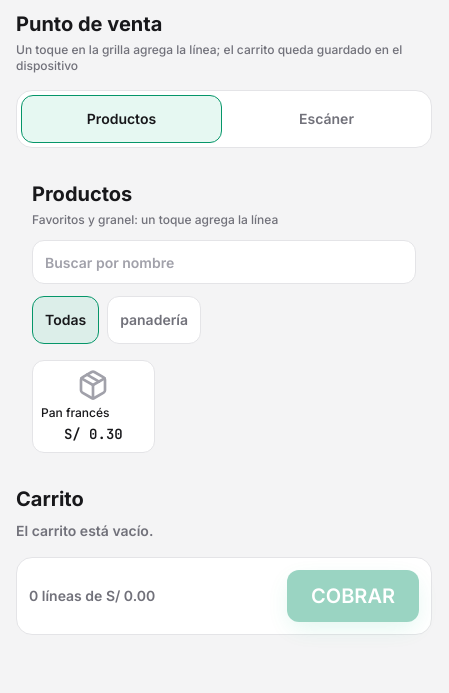
Test case: CounterSaleScreen › falls back to the grid with a non-modal notice when the camera permission is denied
Expected: the number of buttons with test id "product-tile" is 1, [32, 360, 155, 453]
Click the button "Escáner": [326, 119] box [226, 95, 427, 143]
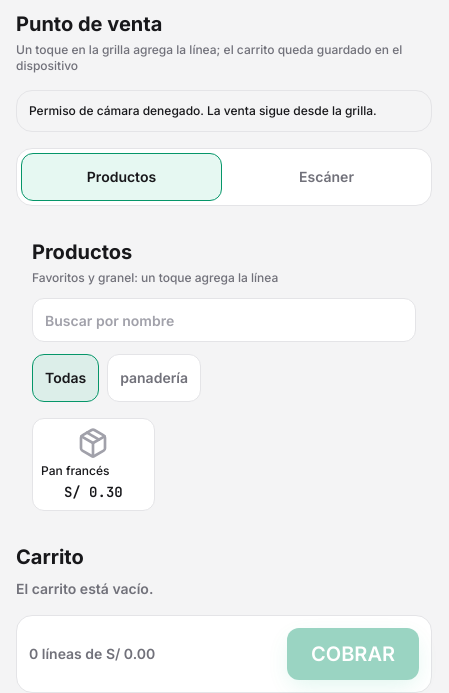
Now the message with test id "scanner-notice" shows "Permiso de cámara denegado", box [29, 103, 377, 118]
Click the button with aria-label "Pan francés, S/ 0.30": [93, 464] box [32, 418, 155, 511]
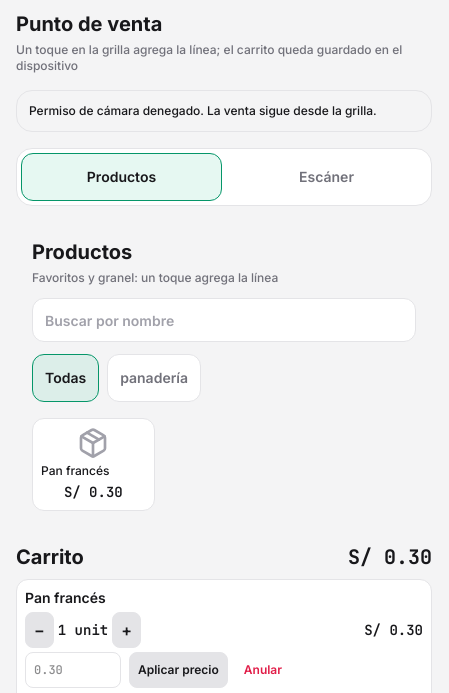
Now the button named "Agregar una unidad de Pan francés" is shown, box [112, 612, 141, 648]
